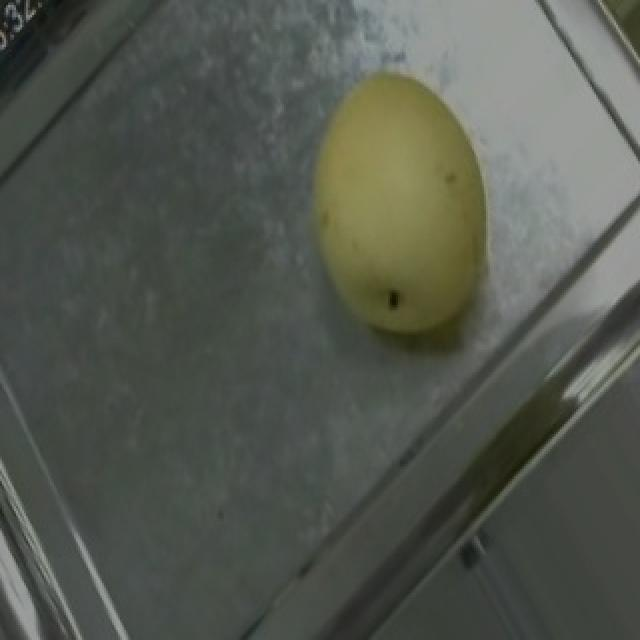Fruit: (260, 34, 540, 380)
